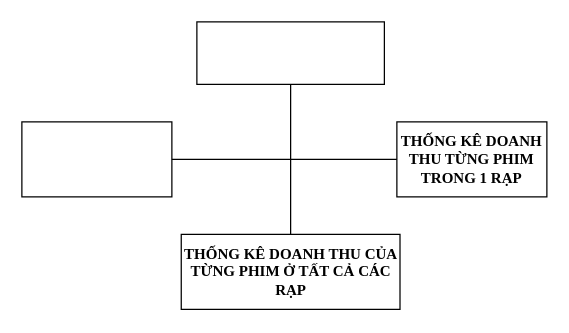
The diagram is 569 pixels wide and 333 high, and some of its shapes have lost their labels. The shapes that lost their labels are listed below. From the top down, each one's box as (x1, y1, x2, y2) in pixels, then its label:
(196, 21, 384, 84): THỐNG KÊ
(21, 121, 172, 197): THỐNG KÊ SỐ VÉ TRONG TỪNG SUẤT CHIẾU
